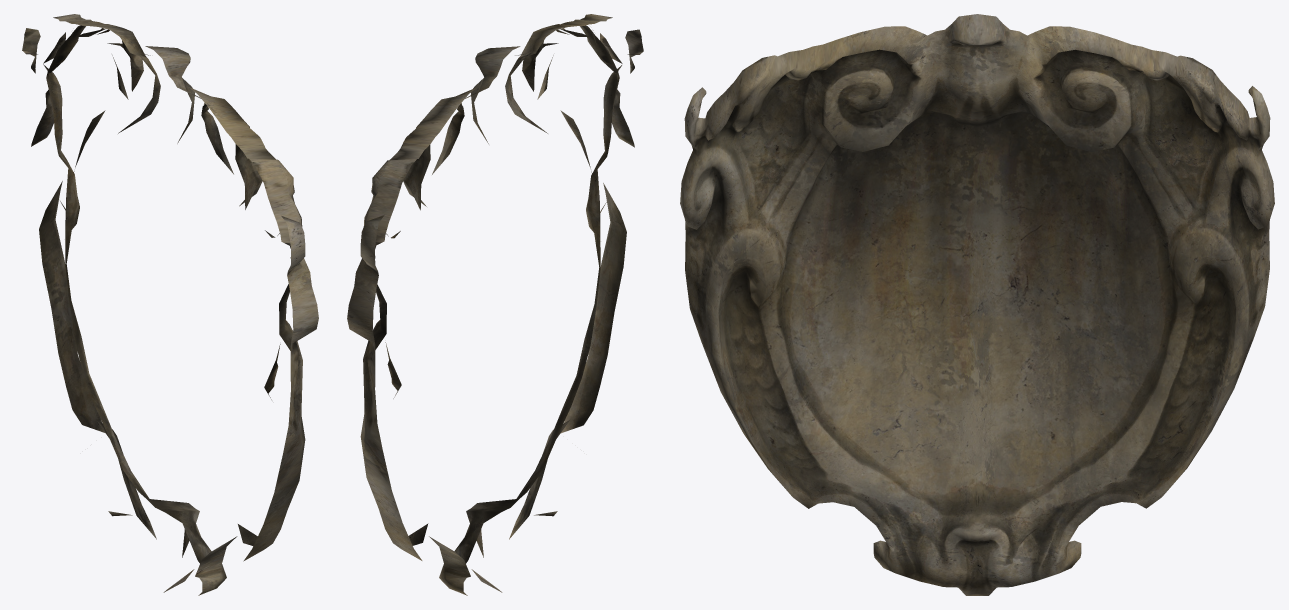
The model's file is Sponza91.gltf.
The picture shows the model from 3 angles, left to right: view 1: azimuth 30°, elevation 25°; view 2: azimuth 150°, elevation 25°; view 3: azimuth 270°, elevation 25°; orthographic projection. The views are drawn at different scales.
Bounding box in the file's own units: 0.1839 × 2.12 × 1.99.
Materials: 1 (1 with a texture image).
